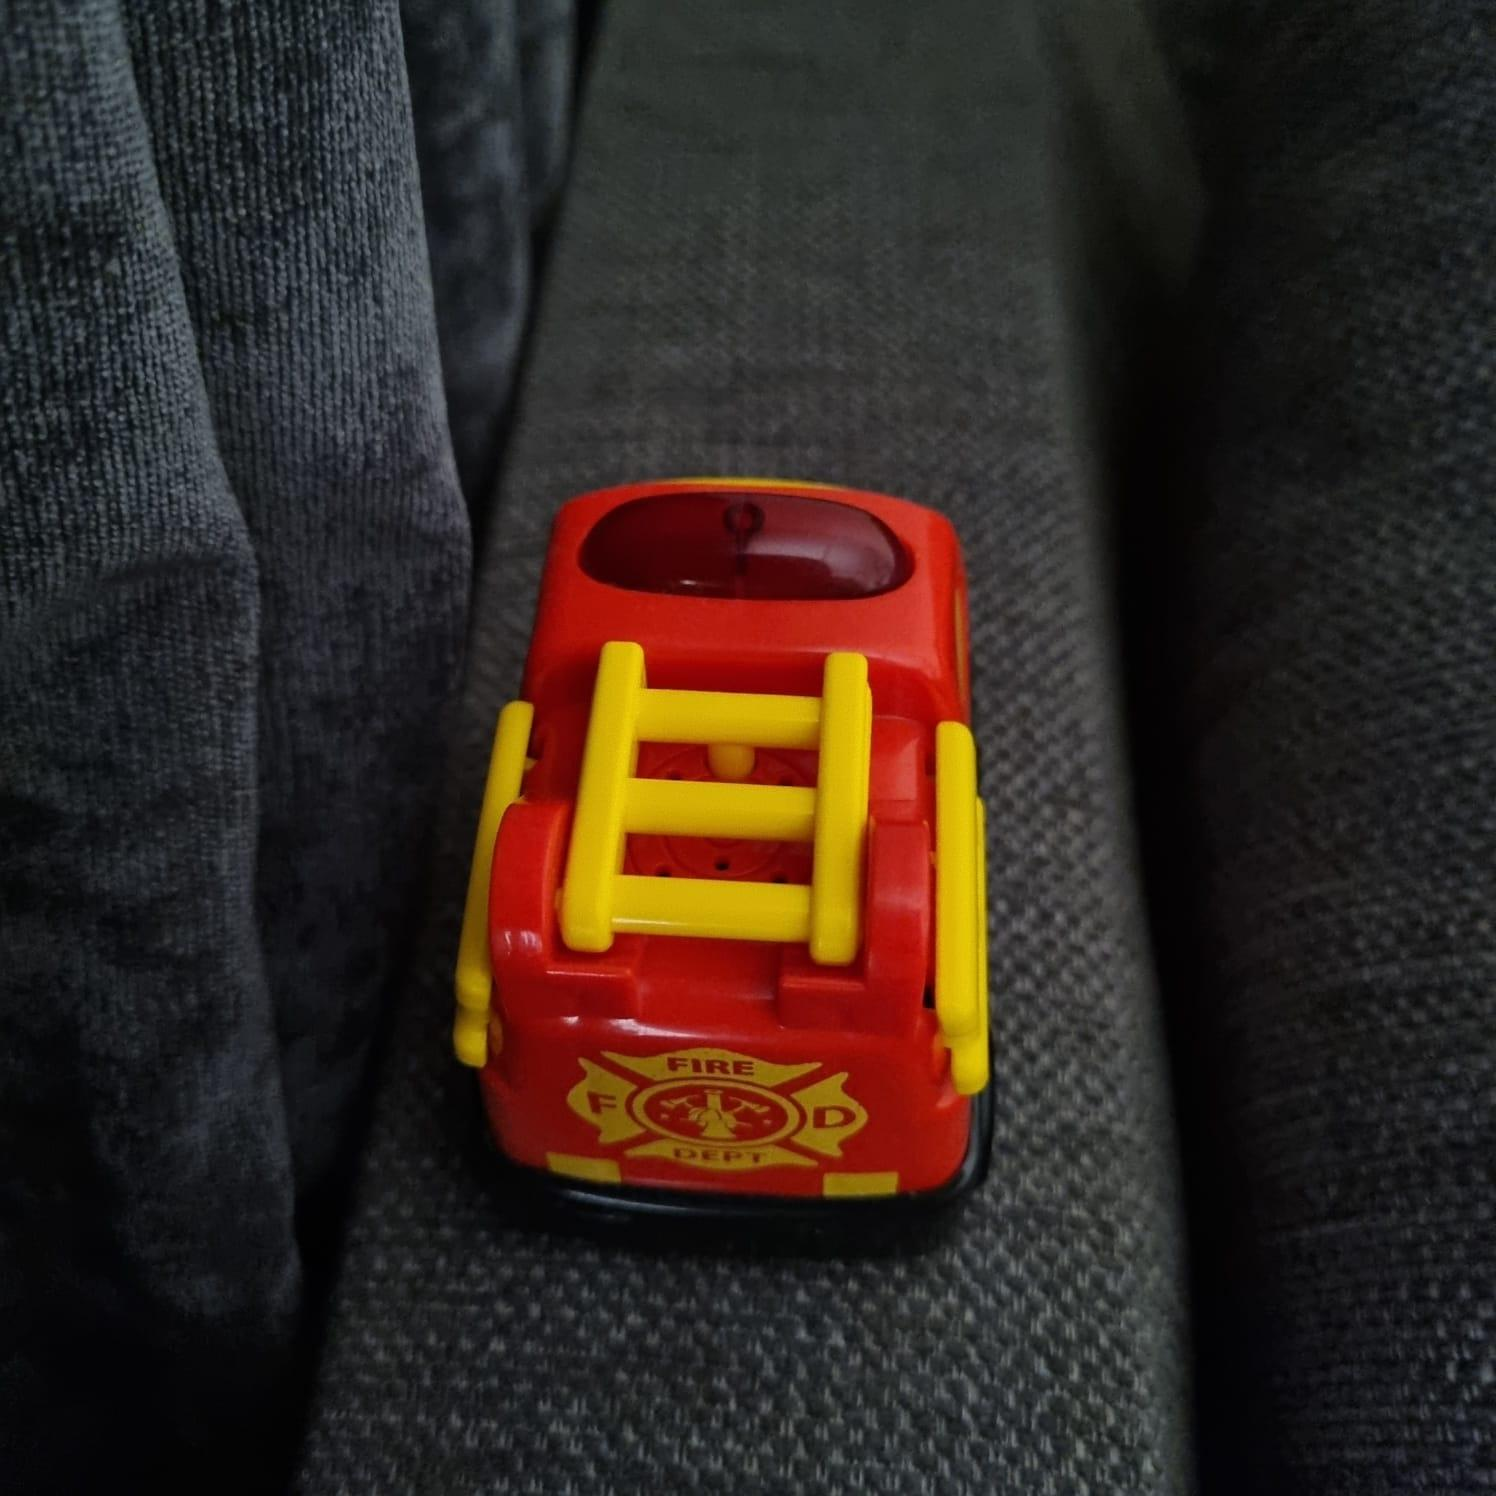firetruck_off: (451, 481, 992, 1243)
